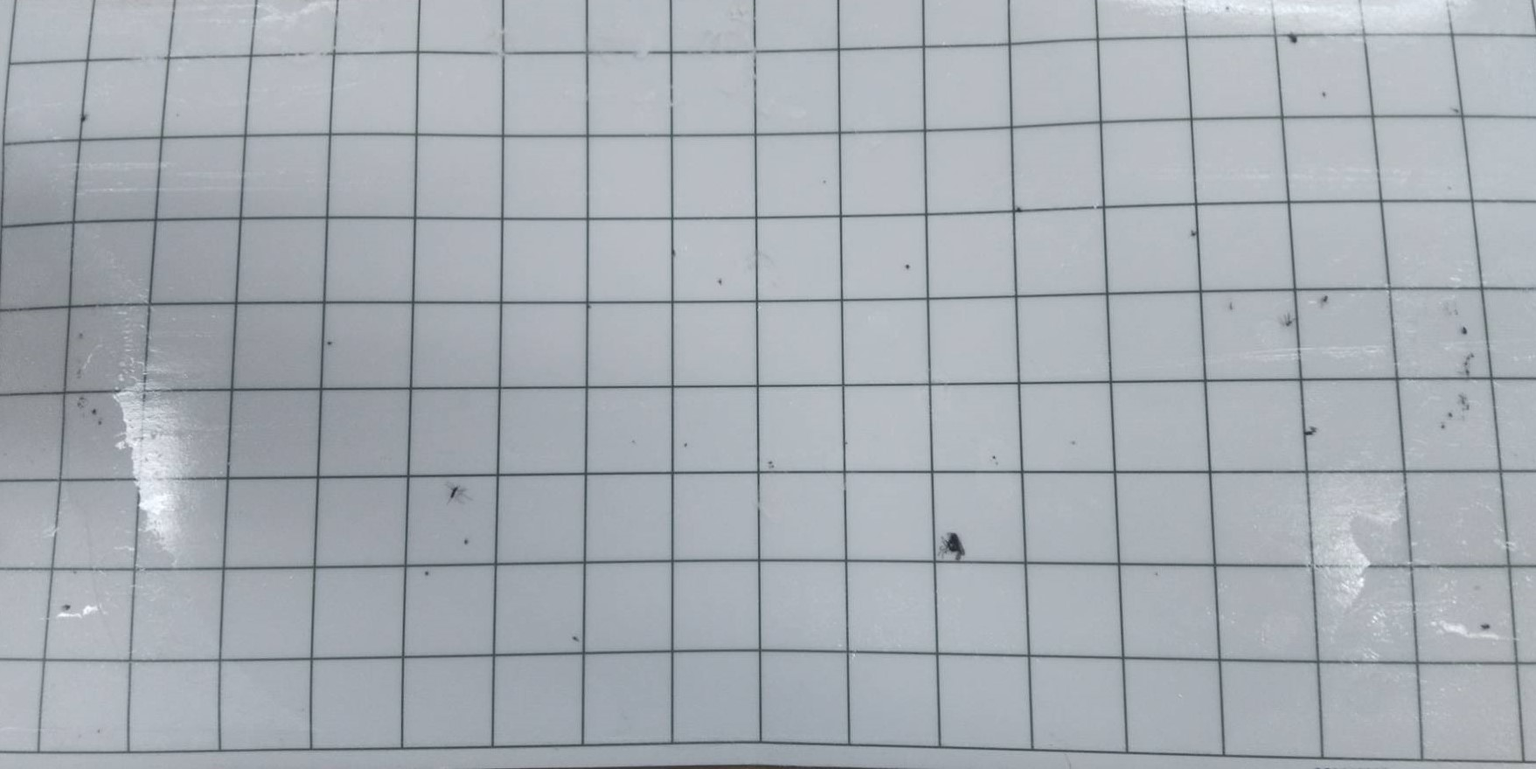fly: (936, 527, 971, 562)
test: (445, 481, 471, 504), (1279, 311, 1301, 332), (1283, 29, 1307, 47), (1299, 423, 1322, 441), (1453, 321, 1475, 339), (1317, 86, 1335, 105), (56, 602, 74, 618), (1449, 103, 1465, 121), (1479, 621, 1495, 638), (764, 457, 779, 475), (1315, 291, 1330, 307), (458, 534, 472, 550), (88, 402, 101, 419), (325, 335, 339, 350), (569, 632, 583, 647), (75, 112, 91, 125), (1443, 408, 1457, 422), (1224, 300, 1237, 314), (988, 453, 1001, 467), (1189, 227, 1201, 242), (679, 439, 692, 452), (667, 245, 680, 258), (1437, 420, 1451, 431), (1067, 438, 1081, 449), (1222, 4, 1234, 15), (715, 276, 725, 289), (1014, 202, 1023, 216), (903, 261, 914, 272), (583, 300, 595, 310), (422, 567, 431, 580)
